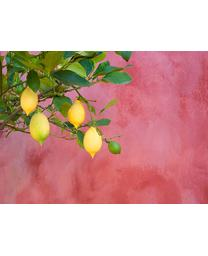lemon: (30, 112, 50, 145), (82, 126, 102, 157), (19, 86, 38, 115), (69, 99, 86, 130), (107, 140, 120, 154)
